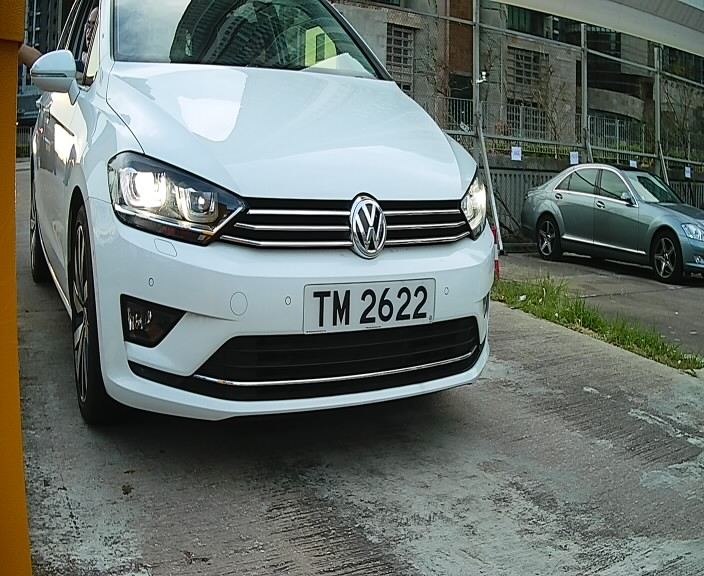Car: (23, 2, 520, 460)
License Plate: (291, 270, 445, 338)
